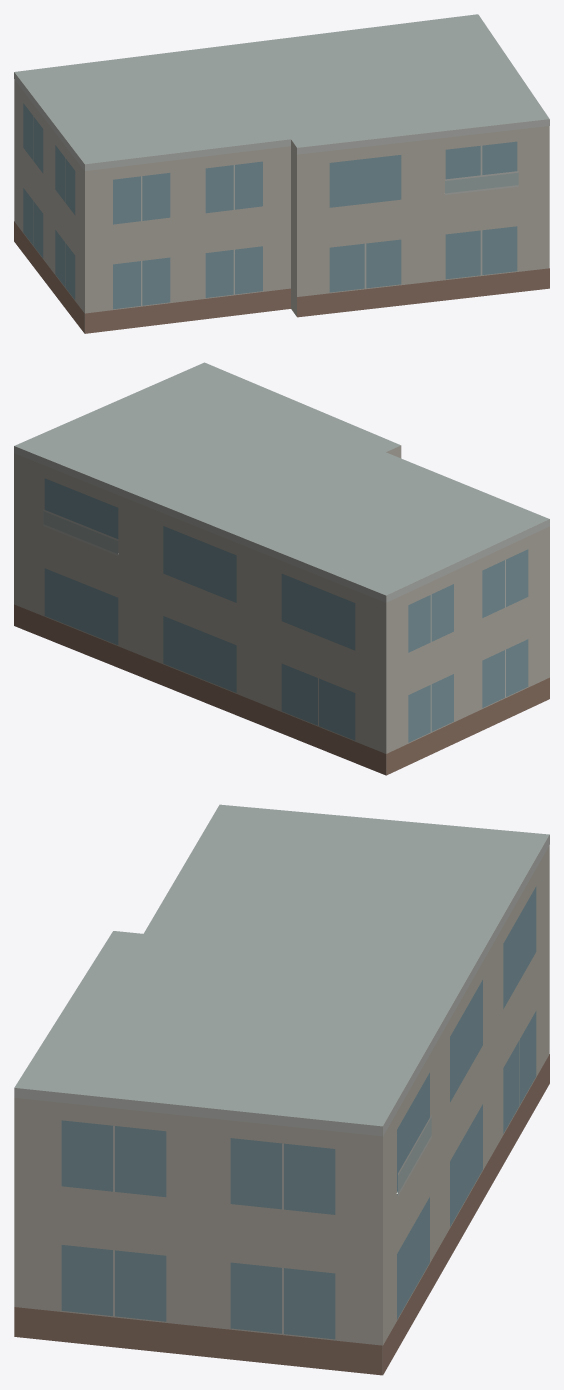
The model's file is survey-upis-32787292.glb.
The picture shows the model from 3 angles, top to bottom: view 1: azimuth 30°, elevation 25°; view 2: azimuth 150°, elevation 25°; view 3: azimuth 270°, elevation 25°; orthographic projection. The views are drawn at different scales.
Parts seen in each view (by area): view 1: survey-upis-32787292.tmp; view 2: survey-upis-32787292.tmp; view 3: survey-upis-32787292.tmp.
Part boxes in pixels (box(x1,y1,x2,y2)): survey-upis-32787292.tmp: box(14, 14, 549, 333); survey-upis-32787292.tmp: box(14, 362, 549, 775); survey-upis-32787292.tmp: box(14, 804, 549, 1375).
Bounding box in the file's own units: 16.93 × 6.1 × 11.9.
